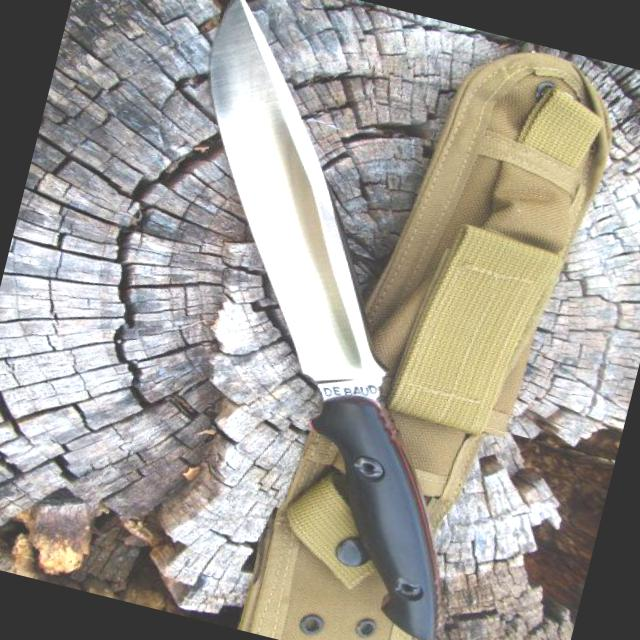knife: (122, 0, 489, 436)
